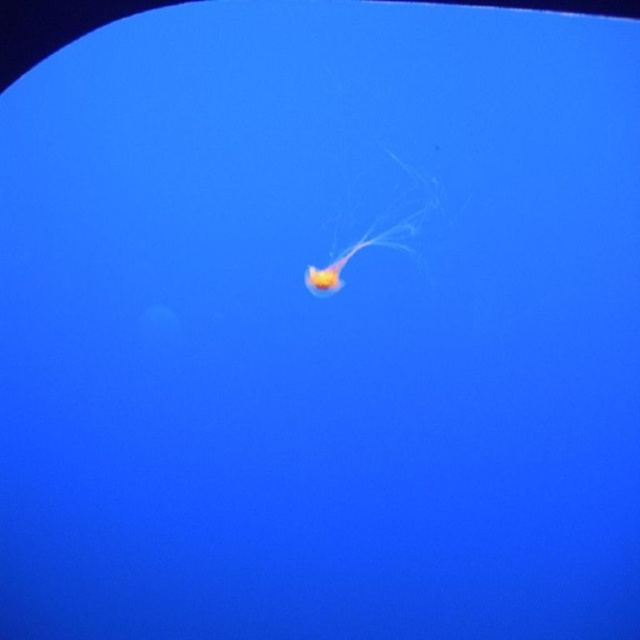Jellyfish: (302, 146, 448, 301)
